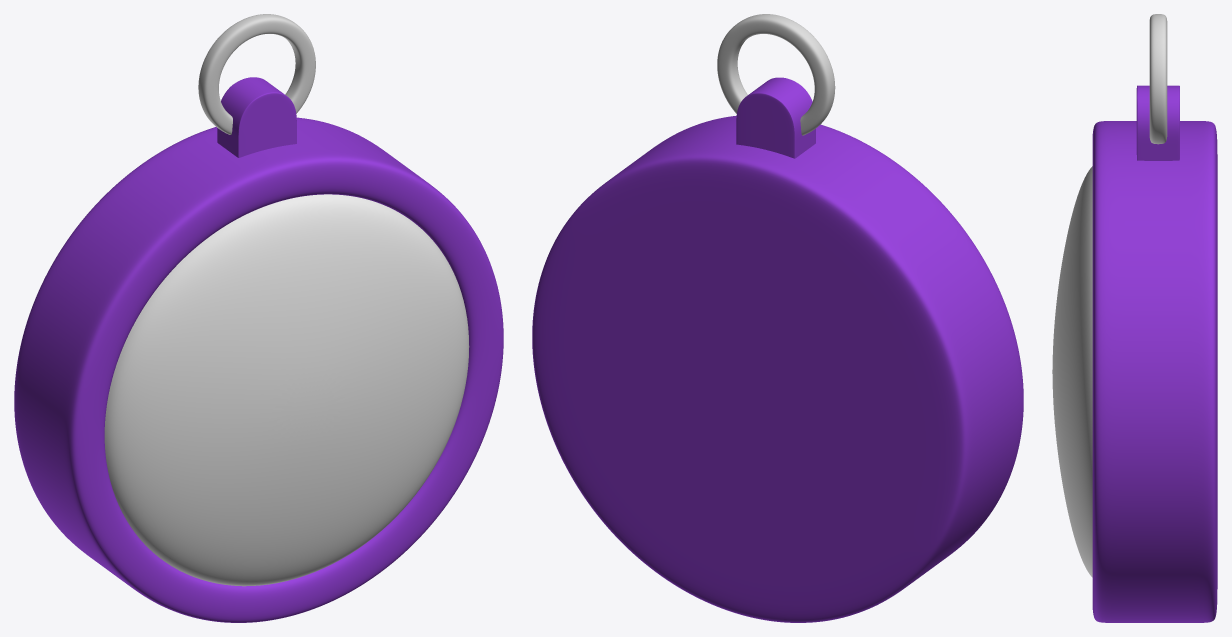
File: explorer.fbx
3 views of the same model, side by side, from view 1: azimuth 30°, elevation 25°; view 2: azimuth 150°, elevation 25°; view 3: azimuth 270°, elevation 25° (orthographic).
Visible parts, largest first — view 1: Explorer; view 2: Explorer; view 3: Explorer.
Boxes of the visible parts, left/top/right/bottom form: Explorer: left=14, top=14, right=503, bottom=622; Explorer: left=532, top=14, right=1023, bottom=622; Explorer: left=1052, top=14, right=1217, bottom=622.
Bounding box in the file's own units: 152 × 193 × 49.91.
